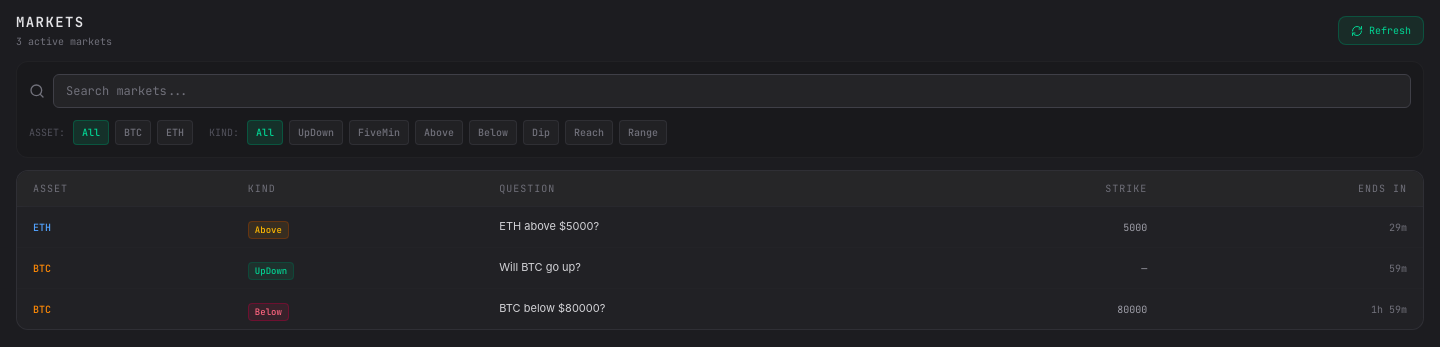
Test case: markets-list › filters by Asset chip
This screenshot has width=1440, height=347.
Check: the text "Will BTC go up?" is shown, box [483,248,926,288]
Click the button "ETH" at (175, 132), box [157,120,193,145]
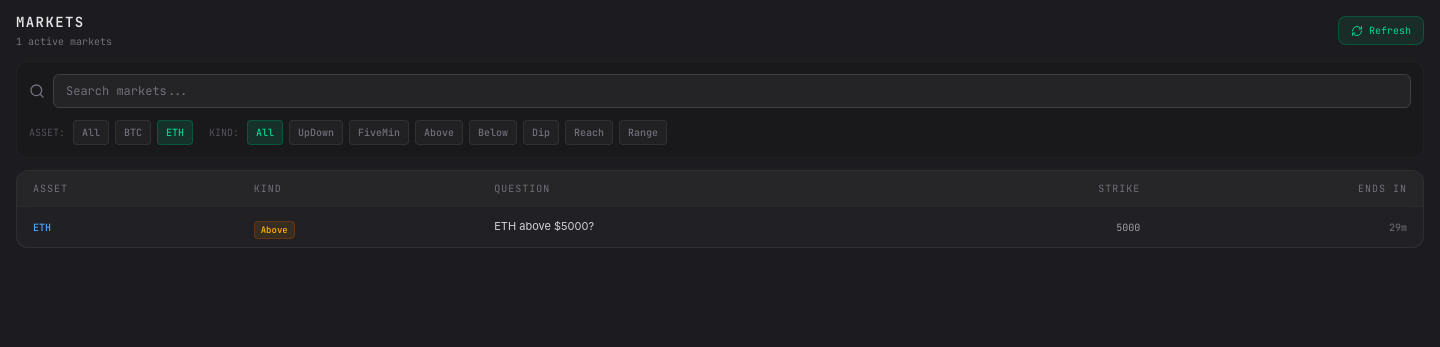
Check: the text "ETH above $5000?" is shown, box [478,206,912,247]
Check: the text "Will BTC go up?" is gone
